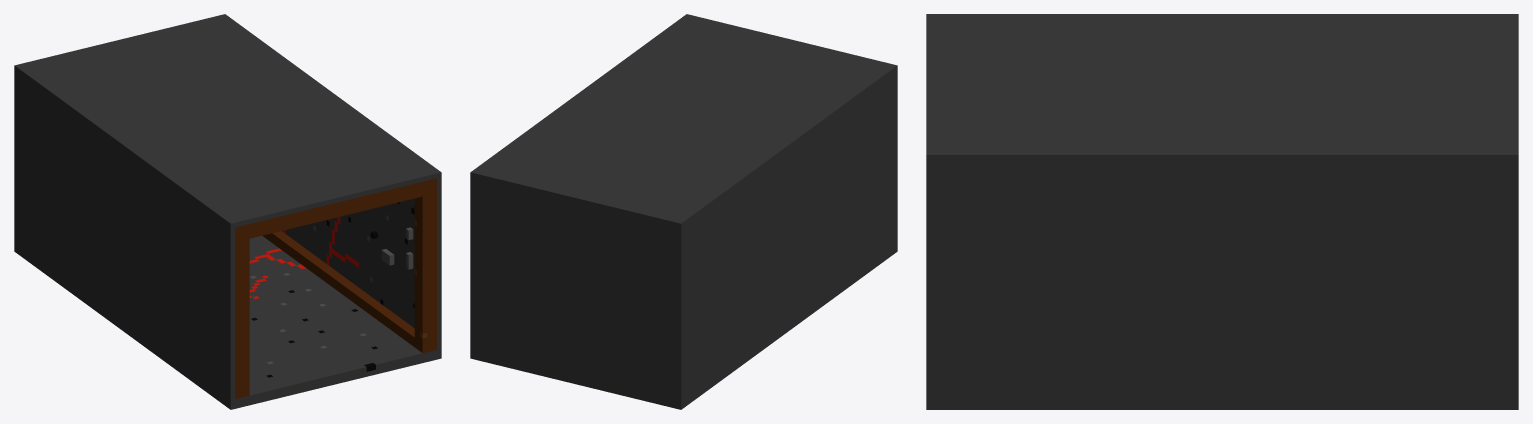
Rendered from Finish.obj.
3 views of the same model, side by side, from view 1: azimuth 30°, elevation 25°; view 2: azimuth 150°, elevation 25°; view 3: azimuth 270°, elevation 25° (orthographic). The views are drawn at different scales.
Visible parts, largest first — view 1: Finish; view 2: Finish; view 3: Finish.
Part boxes in pixels (left/top/right/bottom): Finish: left=14, top=14, right=441, bottom=409; Finish: left=470, top=14, right=897, bottom=409; Finish: left=926, top=14, right=1518, bottom=409.
Size of the model in its own units: 45 by 38 by 80.
1 material, 1 textured.
